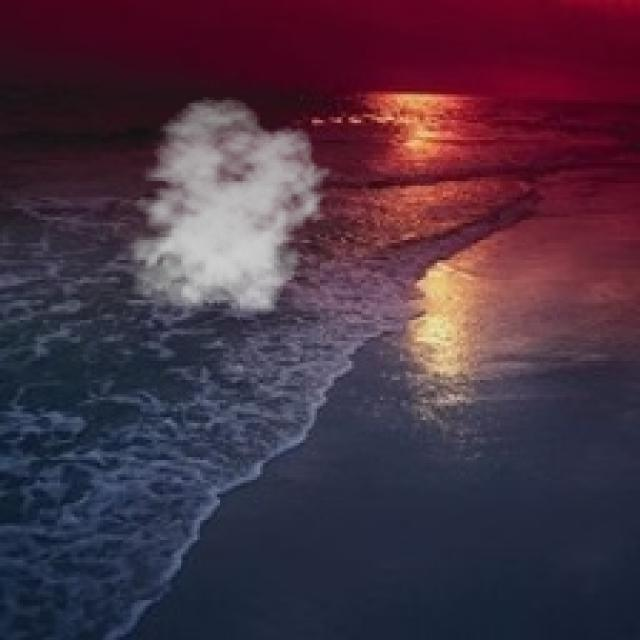Smoke: (117, 97, 332, 323)
